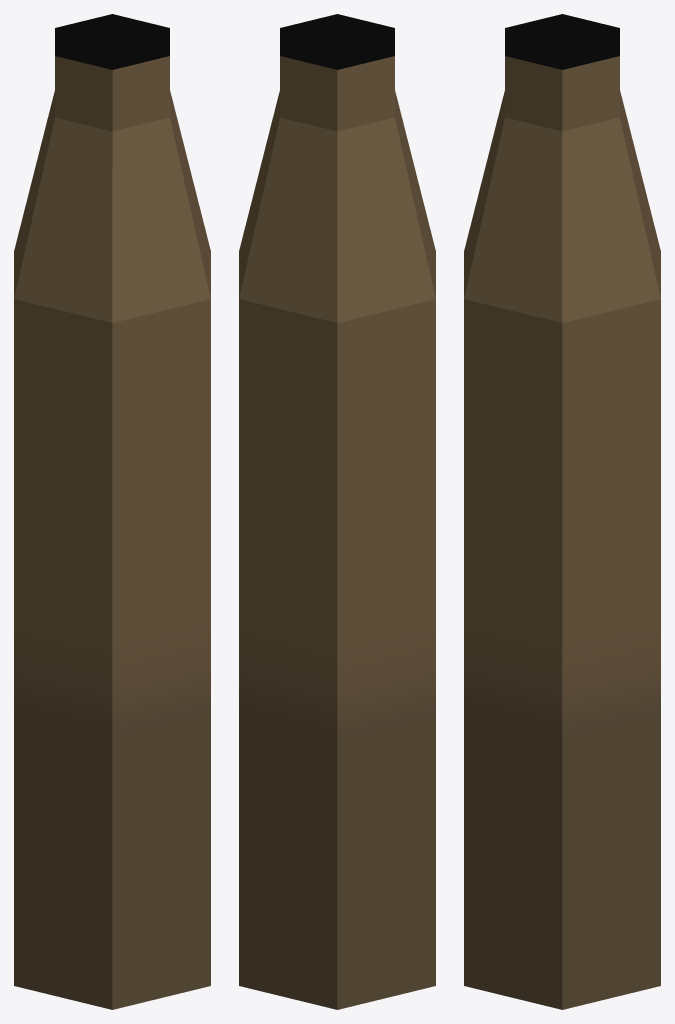
Rendered from SM_Wep_Ammo_Shell_02.fbx.
3 views of the same model, side by side, from view 1: azimuth 30°, elevation 25°; view 2: azimuth 150°, elevation 25°; view 3: azimuth 270°, elevation 25° (orthographic).
Parts seen in each view (by area): view 1: SM_Wep_Ammo_Shell_02; view 2: SM_Wep_Ammo_Shell_02; view 3: SM_Wep_Ammo_Shell_02.
Part boxes in pixels (<box>): SM_Wep_Ammo_Shell_02: <box>14,14,210,1009</box>; SM_Wep_Ammo_Shell_02: <box>239,14,435,1009</box>; SM_Wep_Ammo_Shell_02: <box>464,14,660,1009</box>.
Size of the model in its own units: 2.37 by 10.59 by 2.05.
